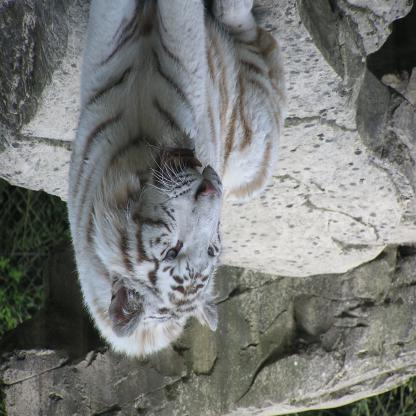tiger: (90, 134, 226, 336)
